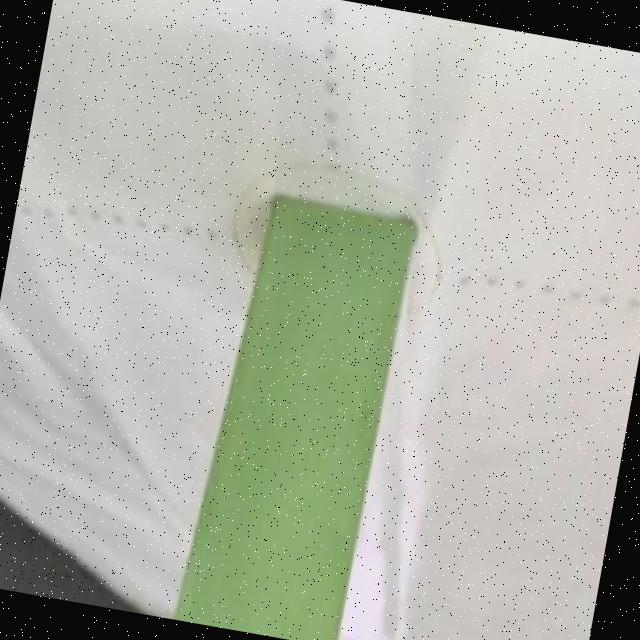greenbox: (173, 188, 416, 640)
